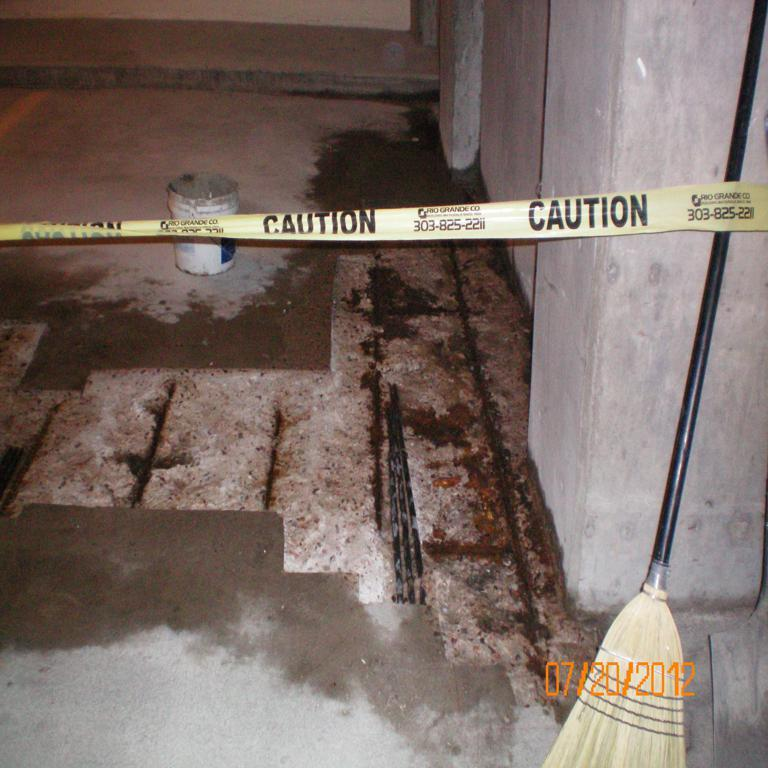exposed_rebar: (448, 248, 540, 641), (366, 254, 436, 530), (387, 384, 426, 604), (126, 381, 176, 506), (0, 414, 50, 511), (262, 406, 285, 509)
spalling: (0, 240, 600, 704)
